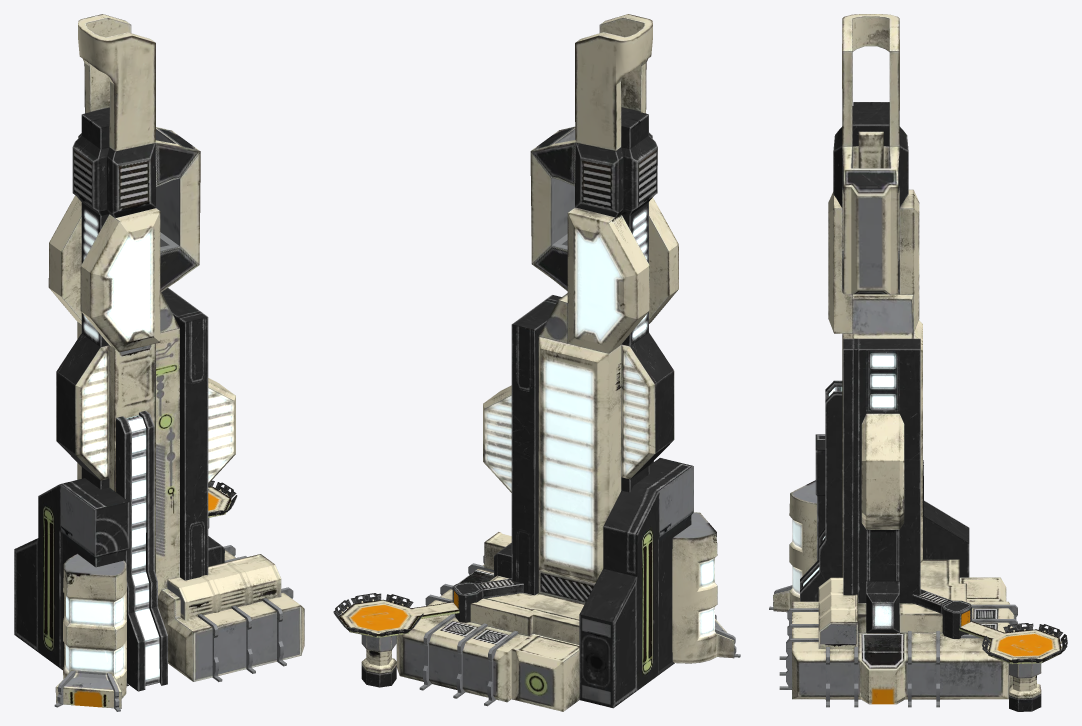
File: BLD_HormoneSpire.glb
3 renders of one model, left to right at view 1: azimuth 30°, elevation 25°; view 2: azimuth 150°, elevation 25°; view 3: azimuth 270°, elevation 25°, orthographic. The views are drawn at different scales.
Visible parts, largest first — view 1: Object001_02 - Default_0; view 2: Object001_02 - Default_0; view 3: Object001_02 - Default_0.
Boxes of the visible parts, left/top/right/bottom form: Object001_02 - Default_0: left=14, top=14, right=304, bottom=711; Object001_02 - Default_0: left=333, top=14, right=740, bottom=711; Object001_02 - Default_0: left=769, top=14, right=1067, bottom=711.
Bounding box in the file's own units: 2870 × 6043 × 2707.
Materials: 1 (1 with a texture image).
